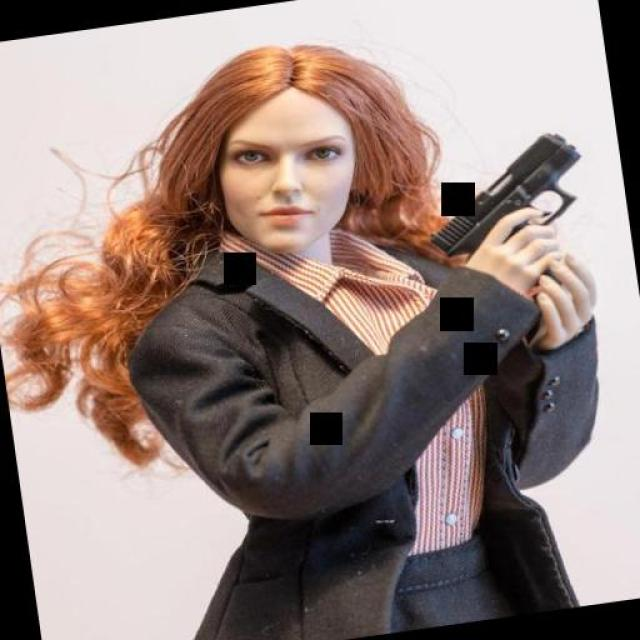gun: (415, 121, 606, 286)
